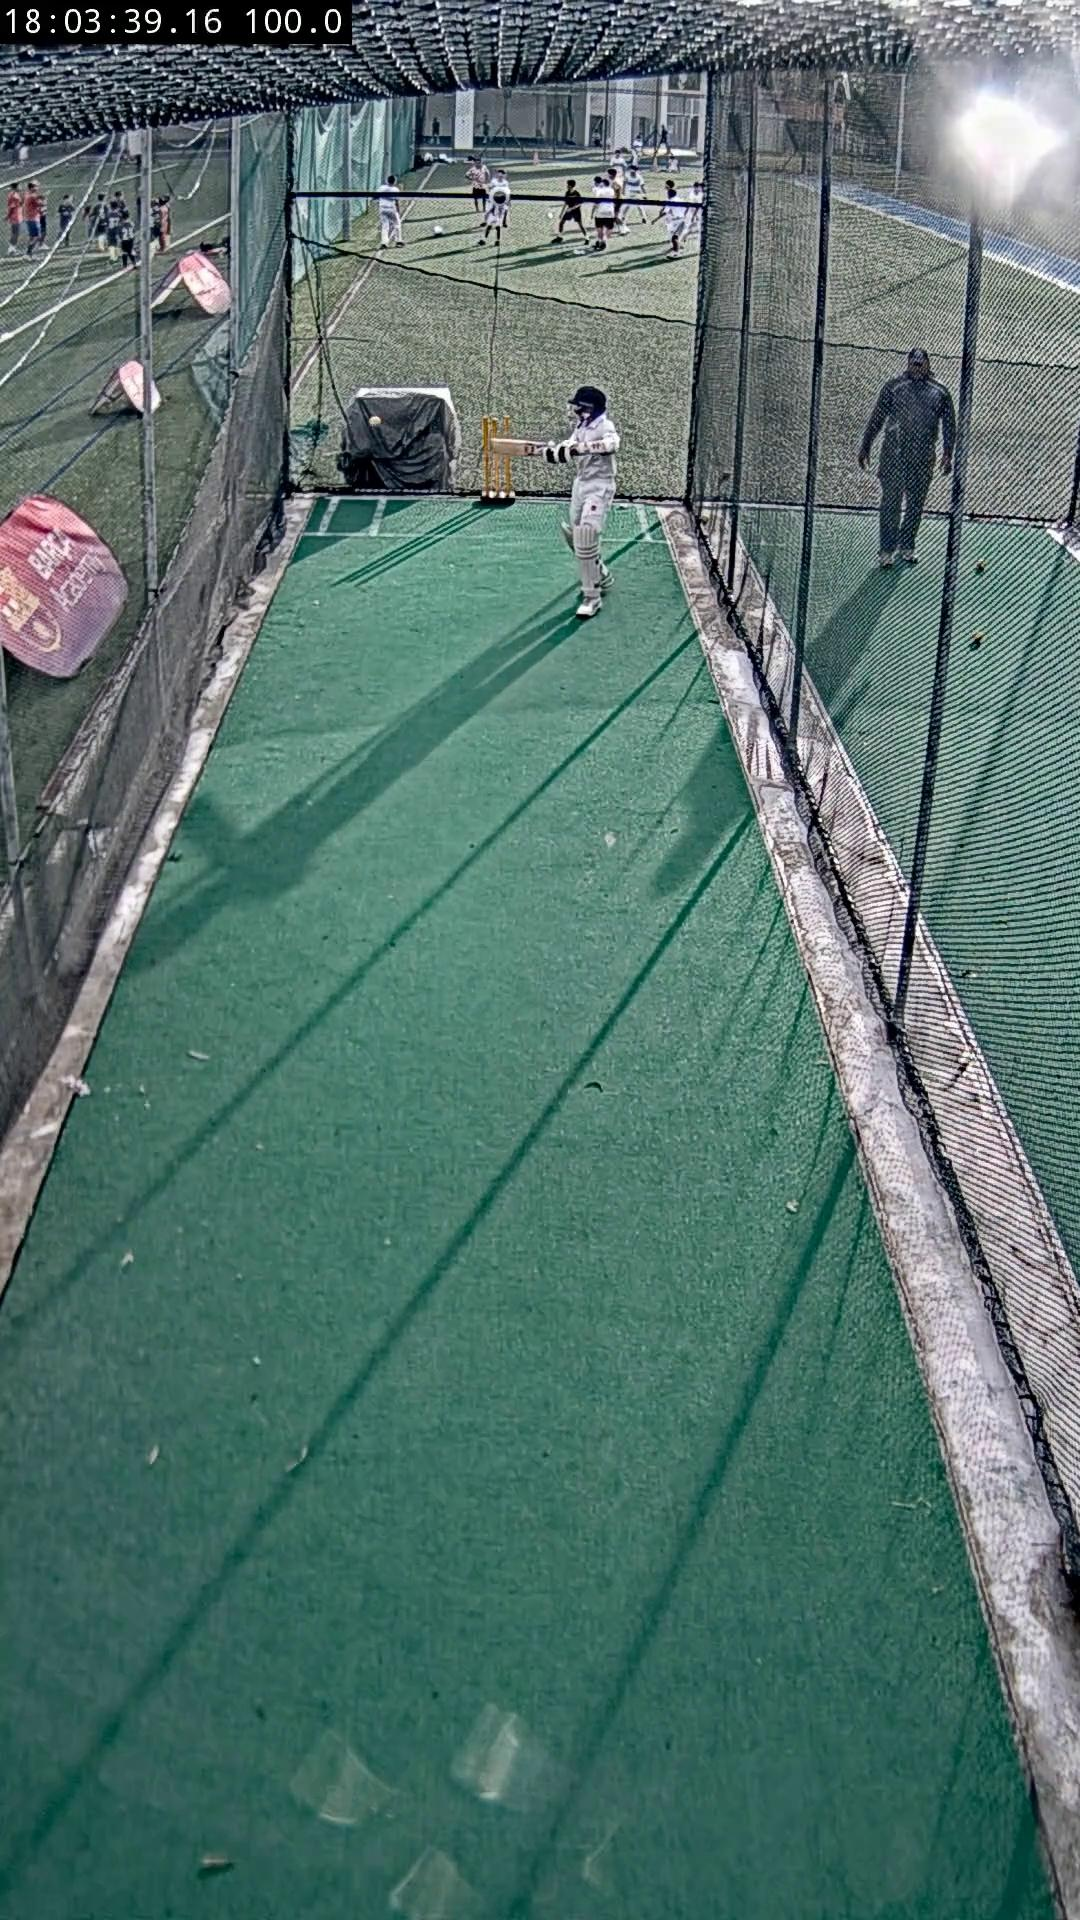ball: (368, 417, 382, 427)
bat: (488, 435, 547, 458)
helmet: (570, 386, 608, 413)
pads: (574, 525, 600, 600)
stumps: (480, 417, 514, 502)
